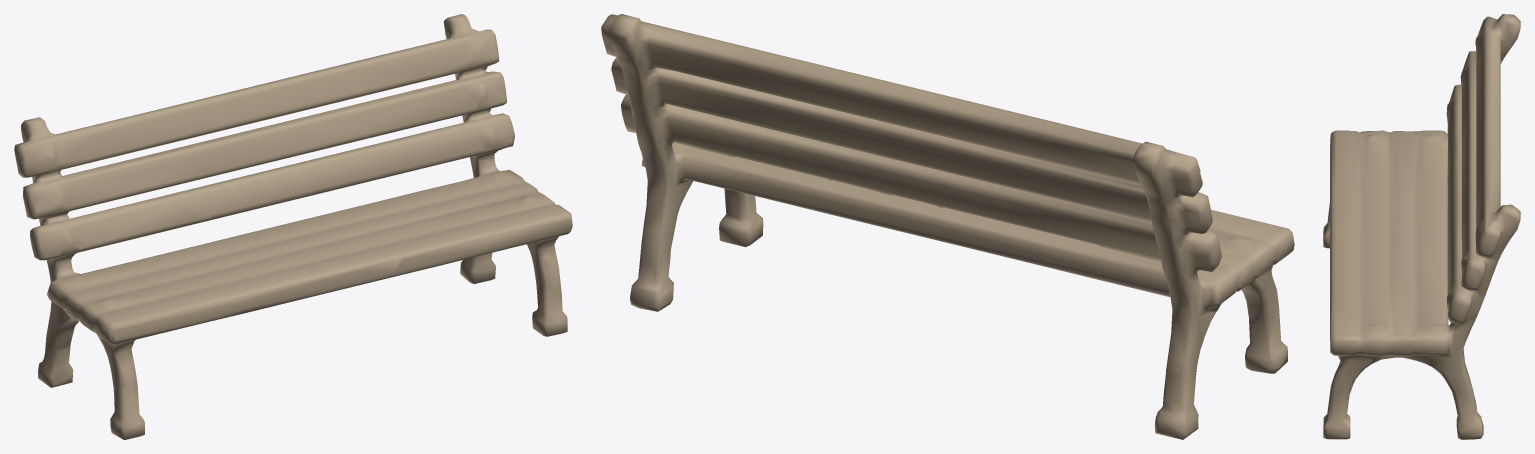
File: park-bench.glb
The picture shows the model from 3 angles, left to right: view 1: azimuth 30°, elevation 25°; view 2: azimuth 150°, elevation 25°; view 3: azimuth 270°, elevation 25°; orthographic projection. The views are drawn at different scales.
Parts seen in each view (by area): view 1: park-bench; view 2: park-bench; view 3: park-bench.
Boxes of the visible parts, x1,y1,x2,y2 form: park-bench: [14, 14, 572, 439]; park-bench: [601, 14, 1294, 439]; park-bench: [1323, 14, 1520, 439].
Bounding box in the file's own units: 1.8 × 0.8961 × 0.6981.
